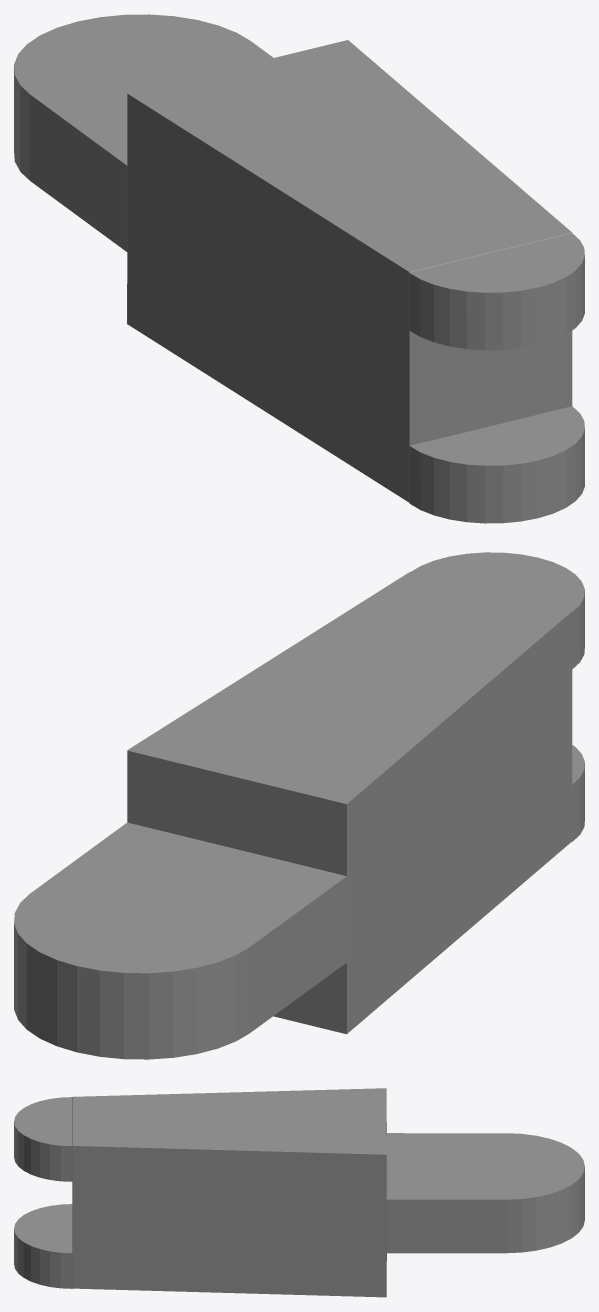
Rendered from finger_1.obj.
The picture shows the model from 3 angles, top to bottom: view 1: azimuth 30°, elevation 25°; view 2: azimuth 150°, elevation 25°; view 3: azimuth 270°, elevation 25°; orthographic projection. The views are drawn at different scales.
Visible parts, largest first — view 1: Left_Finger_1; view 2: Left_Finger_1; view 3: Left_Finger_1.
Part boxes in pixels (box(x1,y1,x2,y2)): Left_Finger_1: box(14, 14, 584, 523); Left_Finger_1: box(14, 552, 584, 1059); Left_Finger_1: box(14, 1088, 584, 1297).
Bounding box in the file's own units: 0.0314 × 0.0314 × 0.1137.
1 material, 1 textured.
